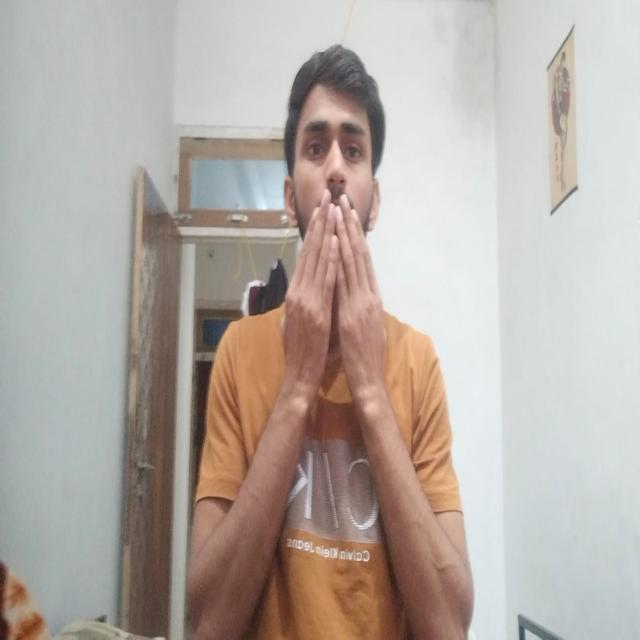Thanks: (269, 185, 406, 401)
